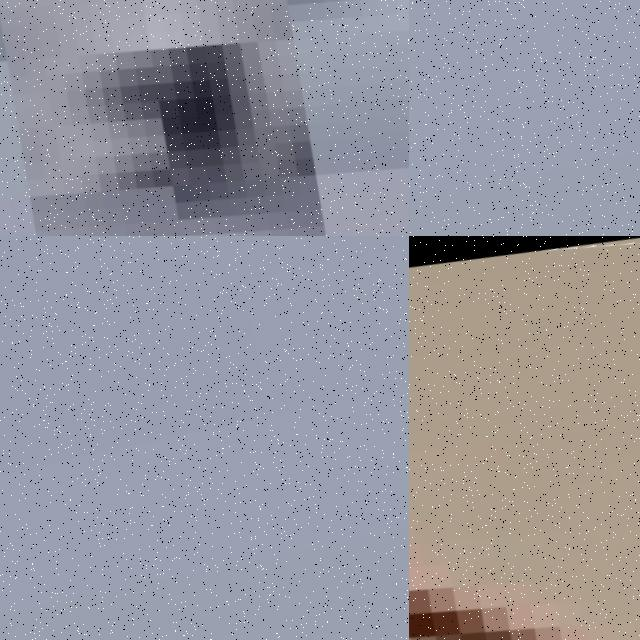0: (0, 0, 409, 236)
drone: (409, 236, 640, 640)
